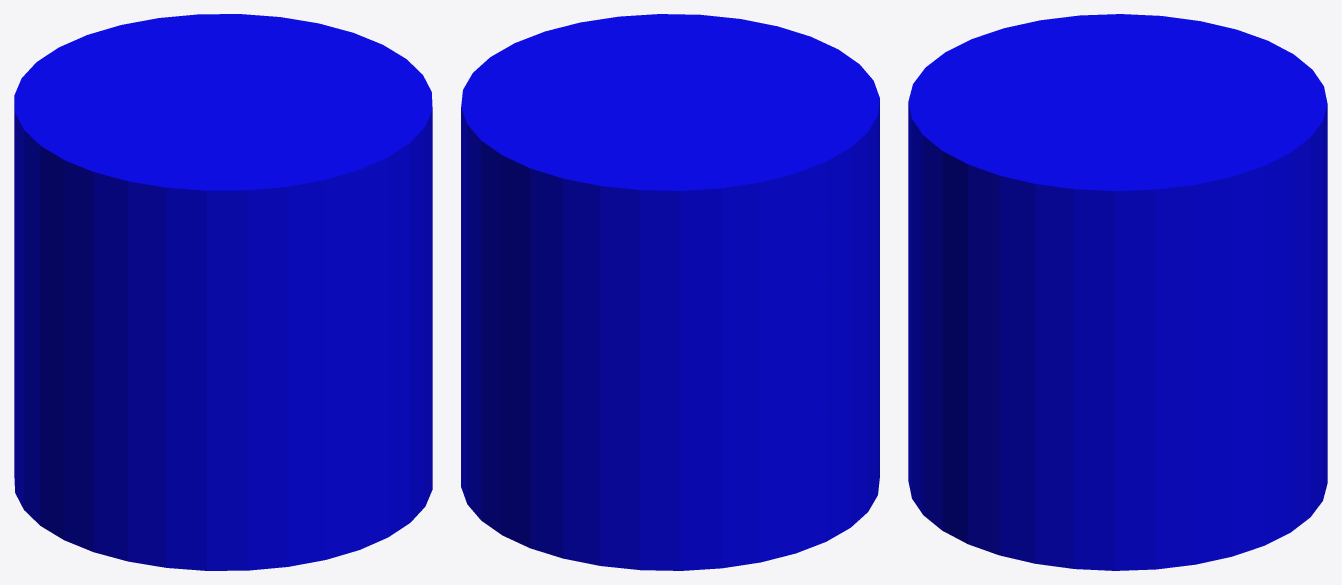
Rendered from Prisma Pentagonal.009.glb.
The picture shows the model from 3 angles, left to right: view 1: azimuth 30°, elevation 25°; view 2: azimuth 150°, elevation 25°; view 3: azimuth 270°, elevation 25°; orthographic projection.
Parts seen in each view (by area): view 1: Prisma Pentagonal.009; view 2: Prisma Pentagonal.009; view 3: Prisma Pentagonal.009.
Boxes of the visible parts, x1,y1,x2,y2 form: Prisma Pentagonal.009: [14, 14, 432, 570]; Prisma Pentagonal.009: [461, 14, 879, 570]; Prisma Pentagonal.009: [908, 14, 1327, 570].
Bounding box in the file's own units: 2 × 2 × 2.
